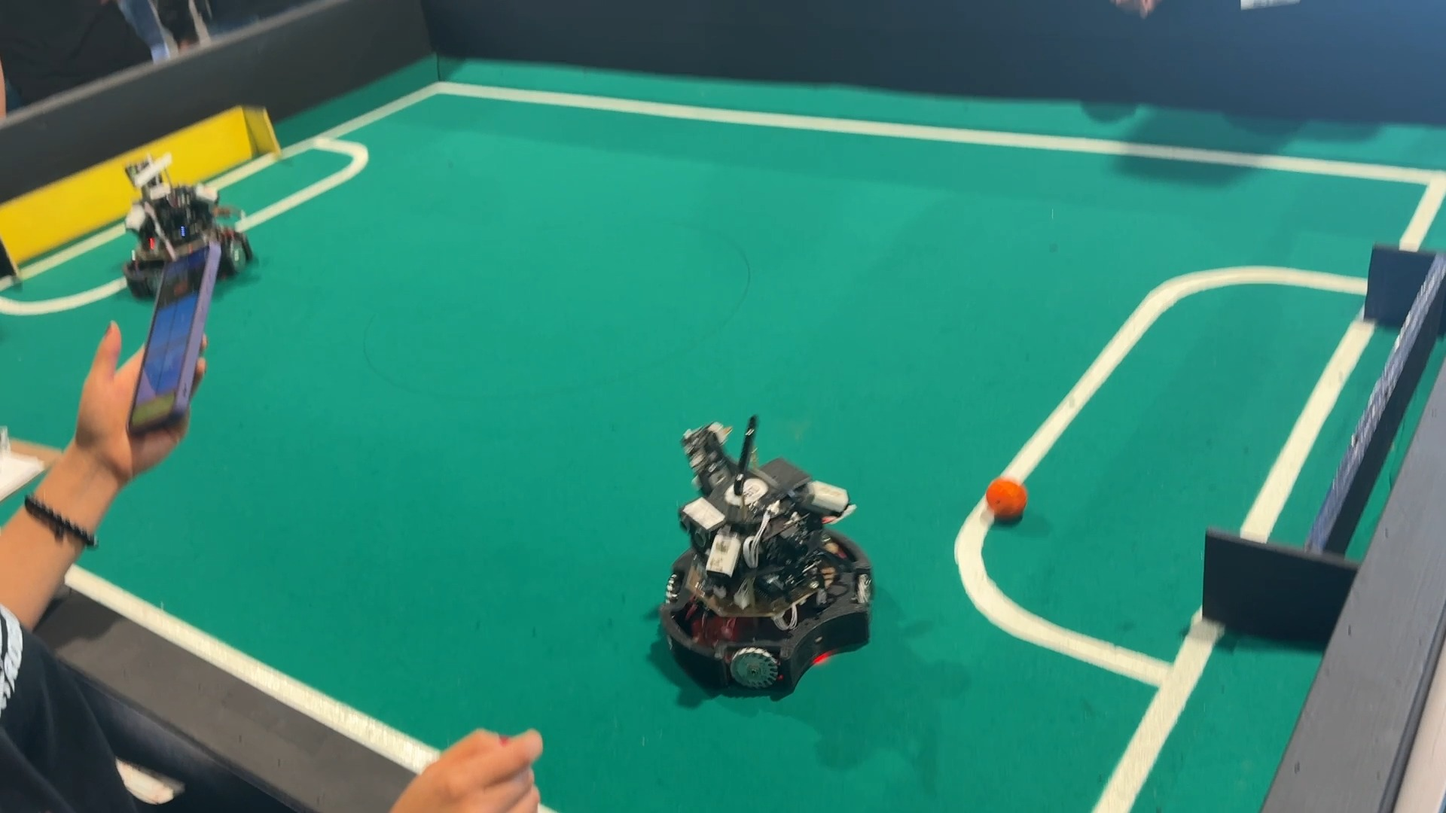Robot: (650, 413, 879, 695), (110, 136, 245, 290)
pelota: (984, 477, 1030, 527)
